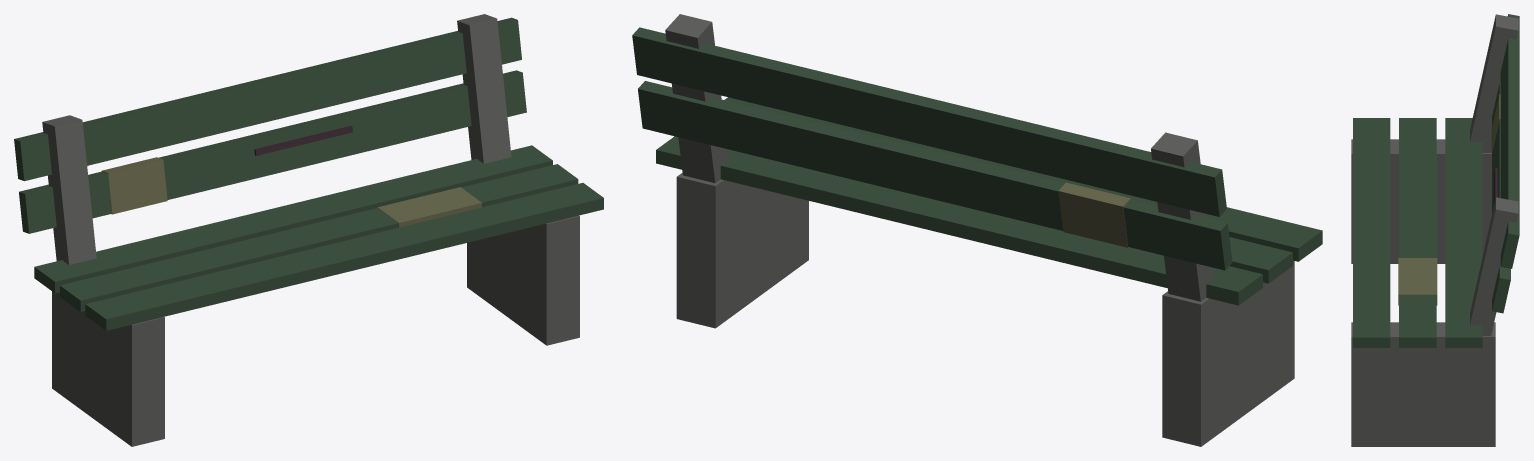
Rendered from banca.glb.
3 views of the same model, side by side, from view 1: azimuth 30°, elevation 25°; view 2: azimuth 150°, elevation 25°; view 3: azimuth 270°, elevation 25° (orthographic). The views are drawn at different scales.
Parts seen in each view (by area): view 1: Banca; view 2: Banca; view 3: Banca.
Boxes of the visible parts, x1,y1,x2,y2 form: Banca: [14, 14, 603, 446]; Banca: [632, 14, 1322, 446]; Banca: [1351, 14, 1519, 446].
Size of the model in its own units: 1.8 by 0.903 by 0.5825.
